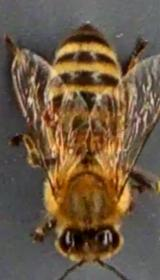varroa_mite: (33, 99, 67, 130)
